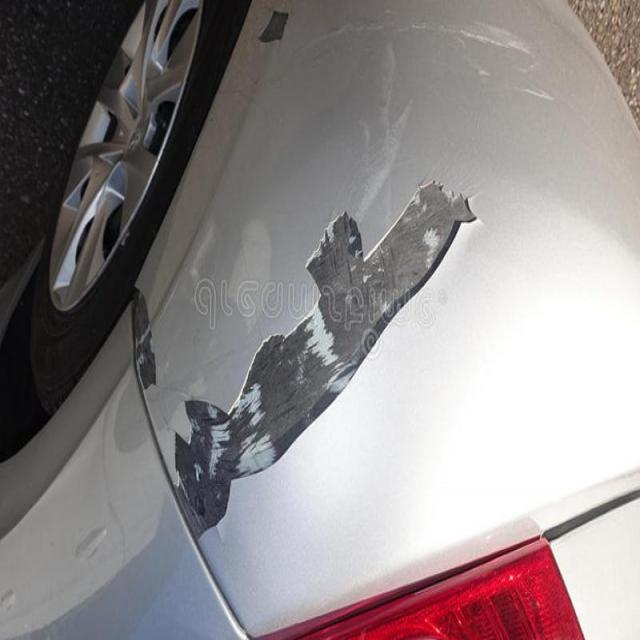scratch: (110, 155, 483, 564), (240, 1, 298, 64)
